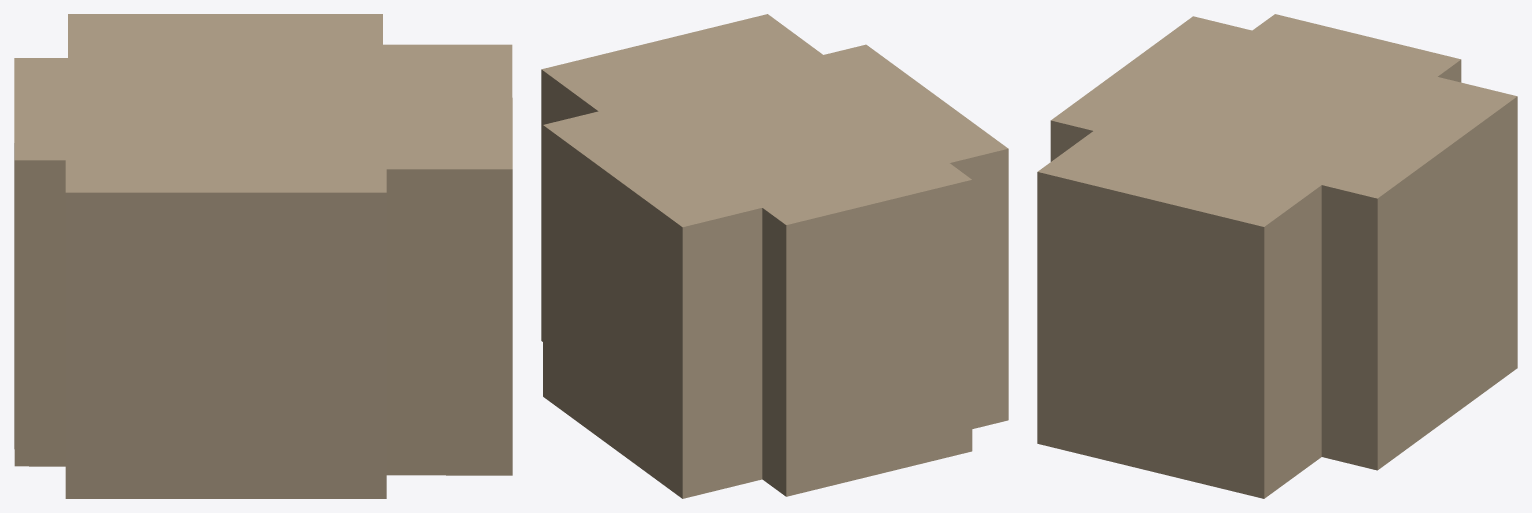
The model's file is bld_101245941.dae.
3 views of the same model, side by side, from view 1: azimuth 30°, elevation 25°; view 2: azimuth 150°, elevation 25°; view 3: azimuth 270°, elevation 25° (orthographic). The views are drawn at different scales.
Parts seen in each view (by area): view 1: bld_101245941; view 2: bld_101245941; view 3: bld_101245941.
Boxes of the visible parts, x1,y1,x2,y2 form: bld_101245941: (14,14,512,498); bld_101245941: (541,14,1008,498); bld_101245941: (1037,14,1517,498).
Size of the model in its own units: 11.76 by 11.2 by 7.
